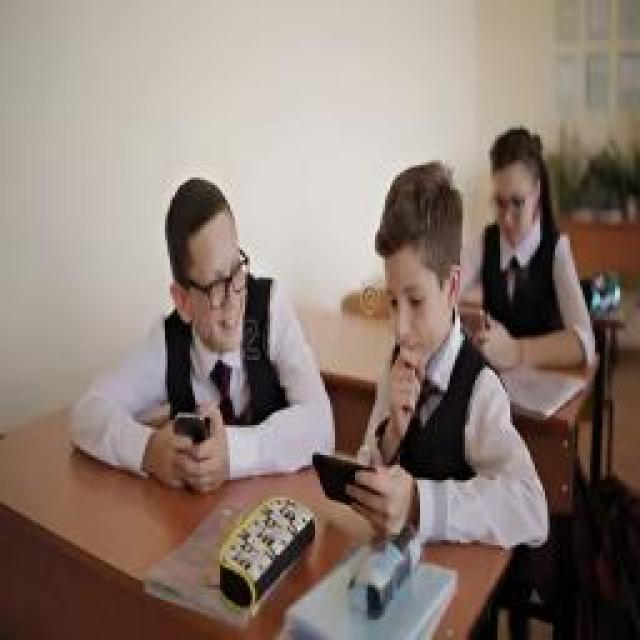phone: (318, 162, 550, 552), (70, 173, 332, 495), (450, 130, 595, 375)
